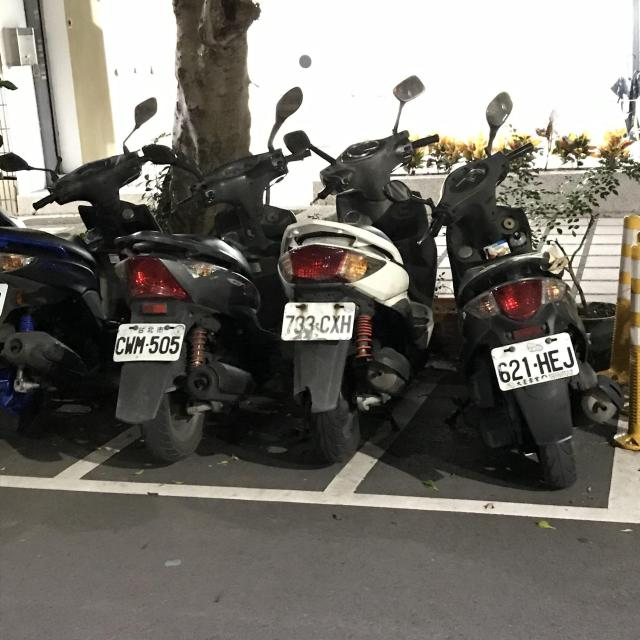W: (482, 331, 585, 392), (277, 296, 365, 344), (110, 317, 192, 365)
